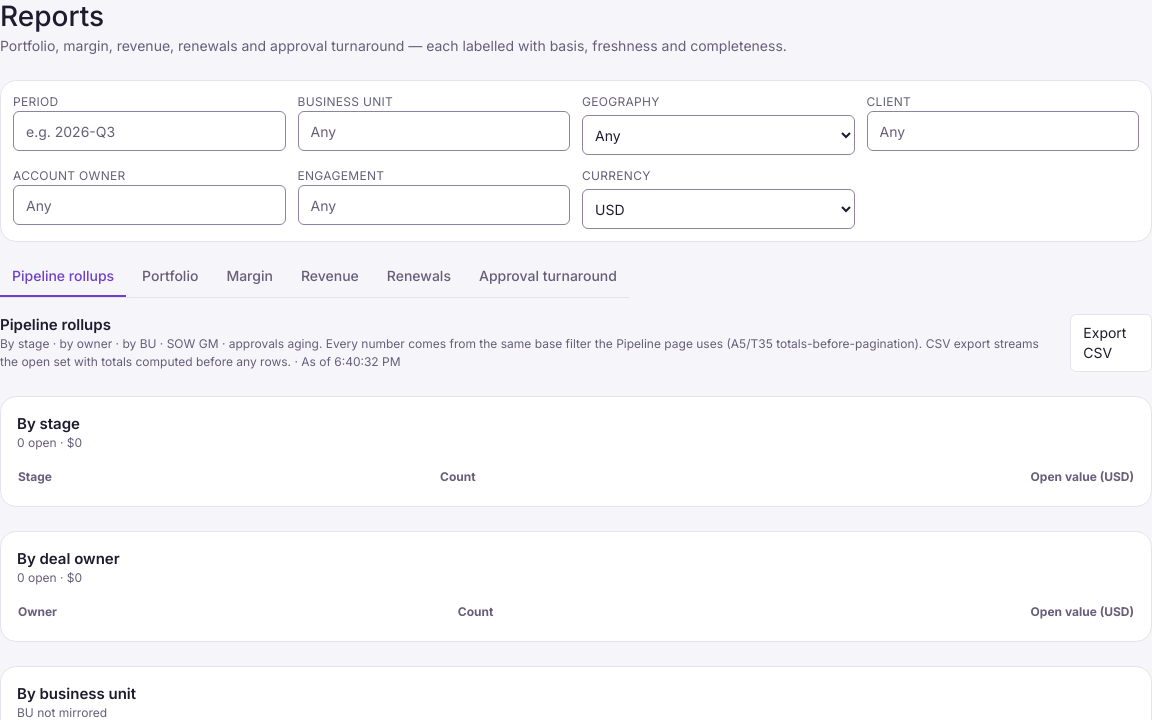
ReportsPage › shows the Revenue tab's invoice/cash caveat by default
Click the tab with test id "tab-revenue".
click(330, 278)  # box [289,258,371,297]
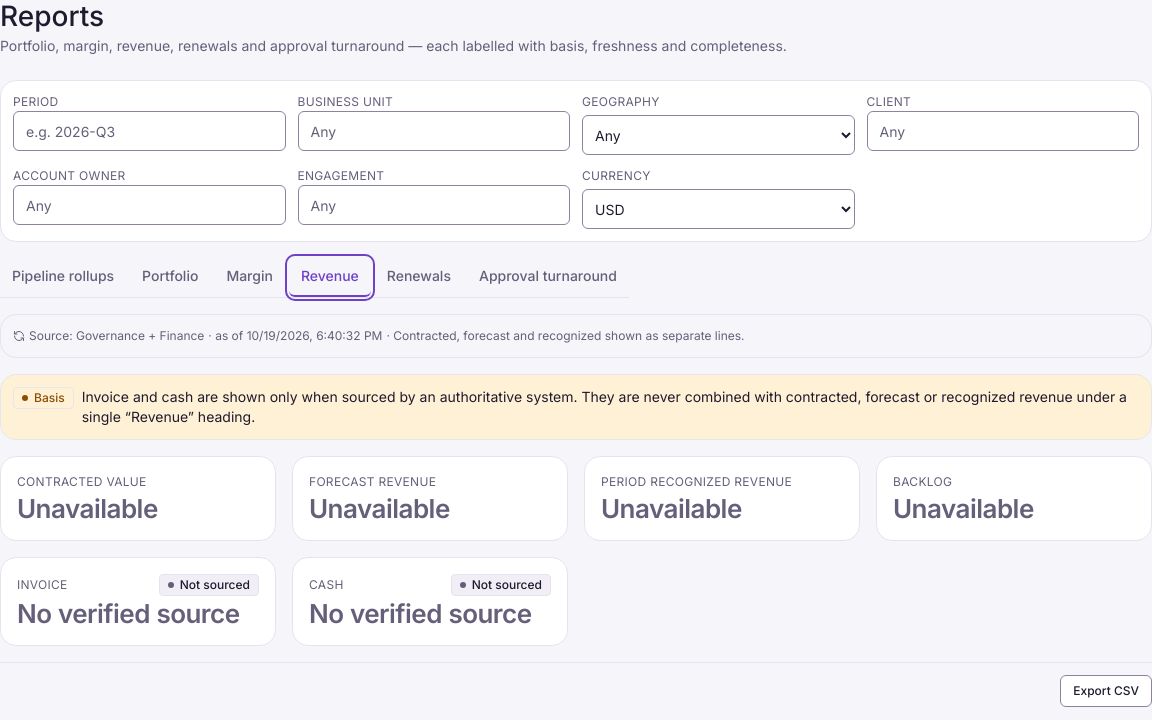
Expected: the element with test id "revenue-invoice-cash-caveat" shows "Invoice and cash", [82,388,1127,425]
Expected: the element with test id "revenue-invoice-cash-caveat" shows "only when sourced", [82,388,1127,425]
Expected: the element with test id "revenue-invoice-cash-caveat" shows "never combined", [82,388,1127,425]
